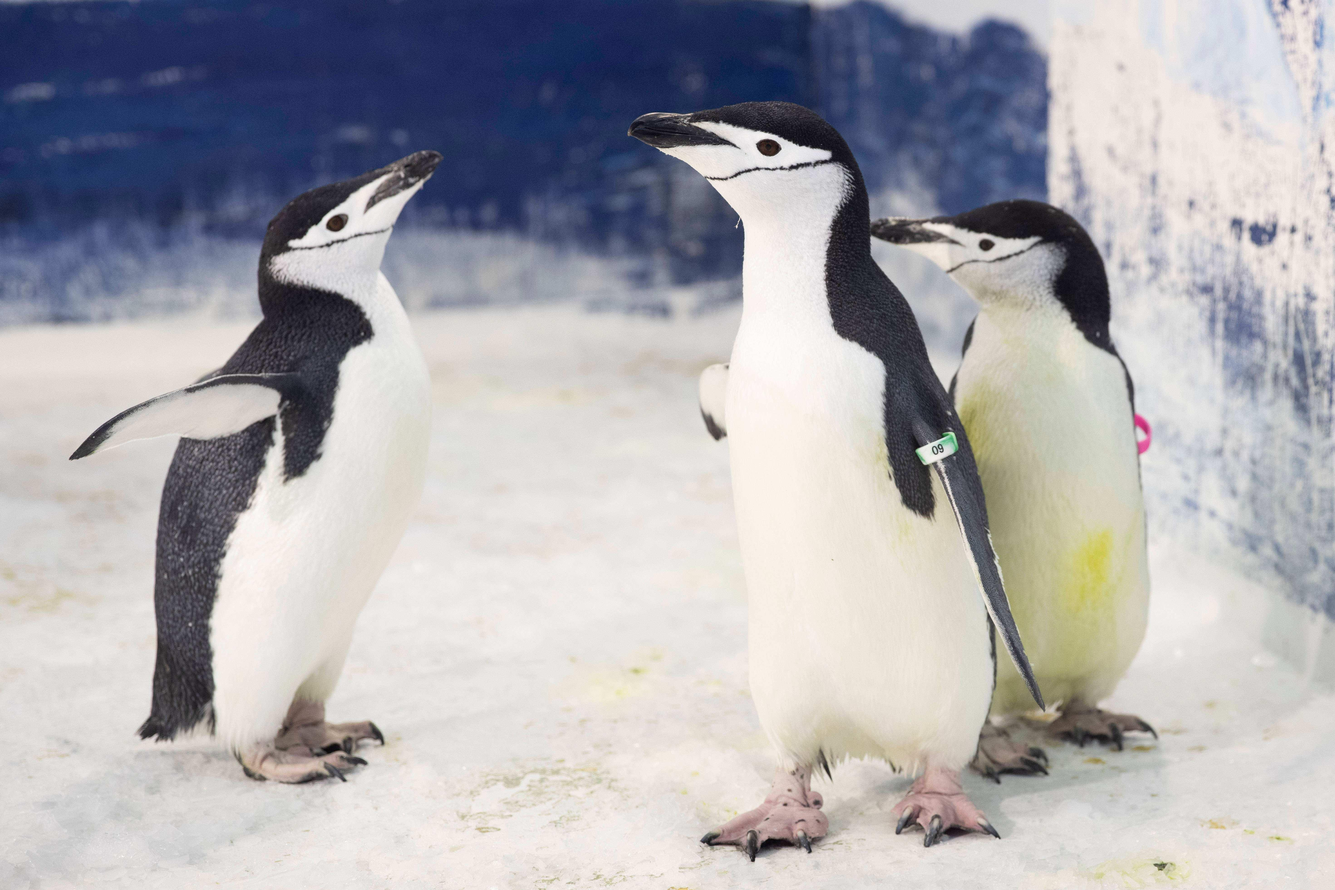Penguin: (631, 102, 1046, 860), (73, 151, 441, 782), (871, 201, 1153, 784)
